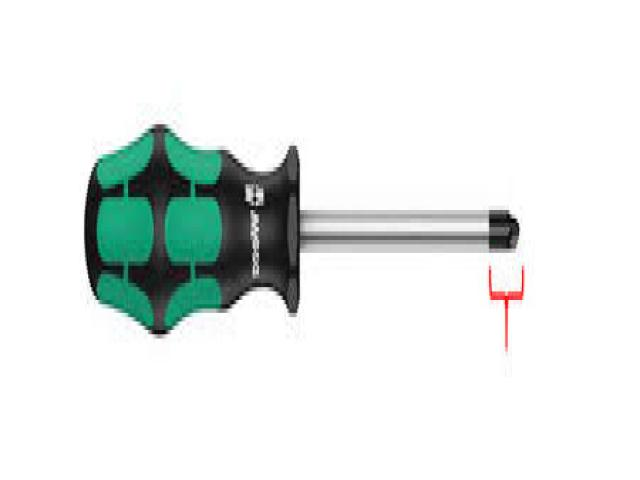Screwdriver: (85, 124, 519, 333)
